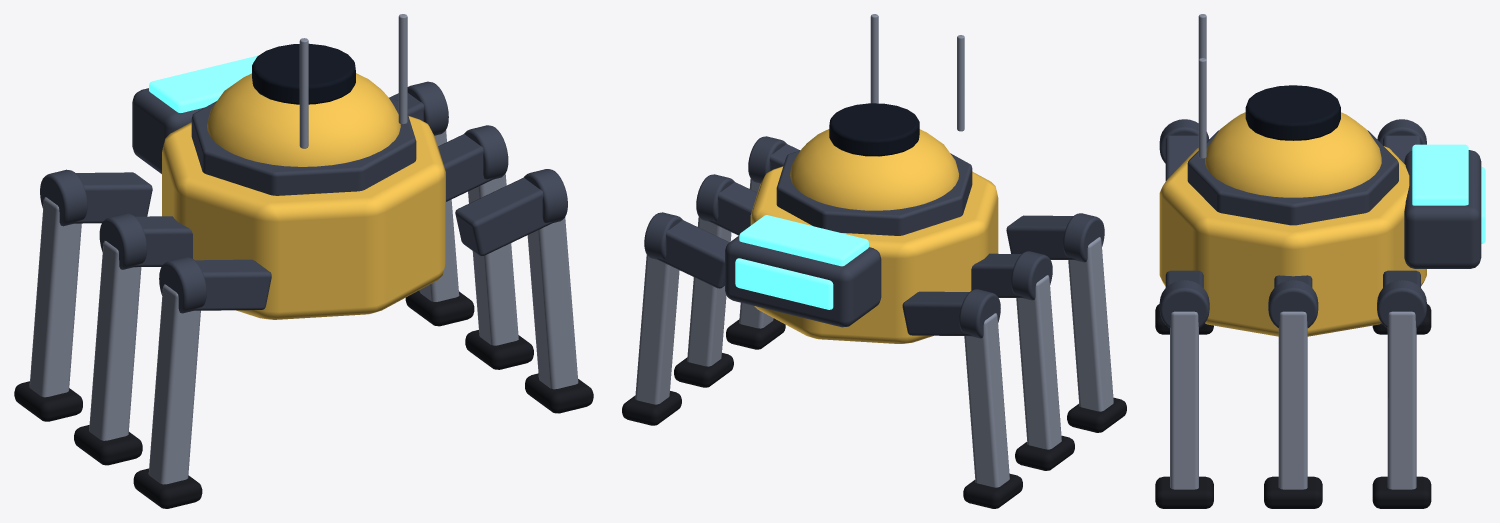
Rendered from robot-1.glb.
The picture shows the model from 3 angles, left to right: view 1: azimuth 30°, elevation 25°; view 2: azimuth 150°, elevation 25°; view 3: azimuth 270°, elevation 25°; orthographic projection. The views are drawn at different scales.
Visible parts, largest first — view 1: pod, cap, collar, shin, shin.002, shin.001, shin.005, sensor_ring, thigh.005, shin.004, thigh.002, visor_top (+19 smaller); view 2: pod, cap, visor_housing, collar, shin, shin.001, shin.002, shin.003, sensor_ring, visor_top, shin.004, visor (+20 smaller); view 3: pod, cap, collar, visor_housing, shin.004, shin.003, shin.005, sensor_ring, visor_top, joint.004, joint.005, joint.003 (+14 smaller).
Boxes of the visible parts, x1,y1,x2,y2 form: pod: [162, 116, 445, 319]; cap: [207, 73, 400, 166]; collar: [191, 98, 416, 195]; shin: [29, 197, 81, 397]; shin.002: [148, 284, 200, 484]; shin.001: [89, 240, 141, 440]; shin.005: [527, 217, 578, 389]; sensor_ring: [252, 43, 355, 104]; thigh.005: [455, 177, 553, 255]; shin.004: [468, 174, 518, 345]; thigh.002: [192, 259, 271, 310]; visor_top: [149, 55, 258, 112]; pod: [750, 166, 998, 343]; cap: [790, 129, 958, 210]; visor_housing: [725, 235, 881, 327]; collar: [776, 150, 972, 235]; shin: [964, 313, 1009, 487]; shin.001: [1016, 275, 1061, 449]; shin.002: [1068, 237, 1113, 411]; shin.003: [635, 255, 679, 404]; sensor_ring: [829, 103, 919, 156]; visor_top: [739, 215, 868, 266]; shin.004: [687, 217, 731, 366]; visor: [735, 258, 833, 309]; pod: [1159, 146, 1426, 336]; cap: [1205, 112, 1381, 197]; collar: [1187, 130, 1398, 225]; visor_housing: [1404, 150, 1481, 268]; shin.004: [1278, 311, 1307, 489]; shin.003: [1387, 311, 1416, 489]; shin.005: [1170, 311, 1198, 489]; sensor_ring: [1245, 85, 1340, 140]; visor_top: [1412, 144, 1468, 205]; joint.004: [1268, 280, 1318, 327]; joint.005: [1159, 280, 1209, 328]; joint.003: [1377, 280, 1426, 328].
Bounding box in the file's own units: 1.01 × 0.9205 × 0.73.
